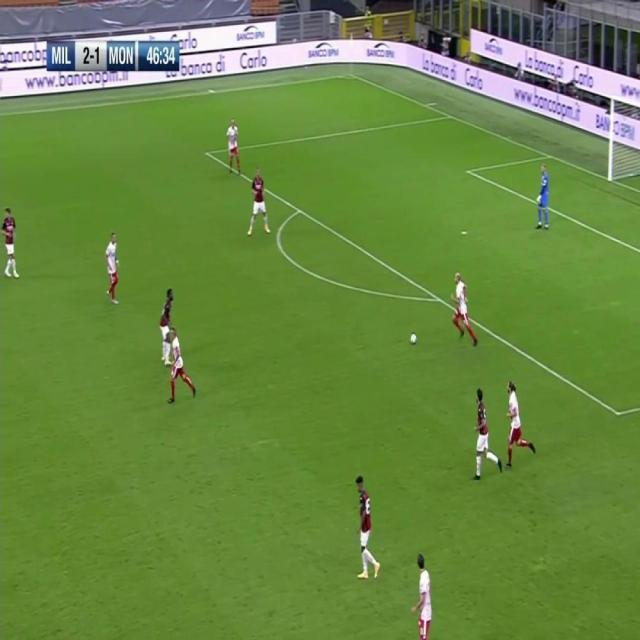ball: (409, 330, 418, 346)
goalkeeper: (535, 163, 552, 231)
player: (354, 476, 383, 585), (504, 381, 536, 467), (472, 392, 502, 481), (167, 326, 197, 406), (451, 271, 479, 348), (411, 553, 433, 640), (246, 166, 271, 239), (1, 206, 20, 279), (104, 230, 121, 306), (158, 293, 174, 366), (226, 117, 243, 177)
